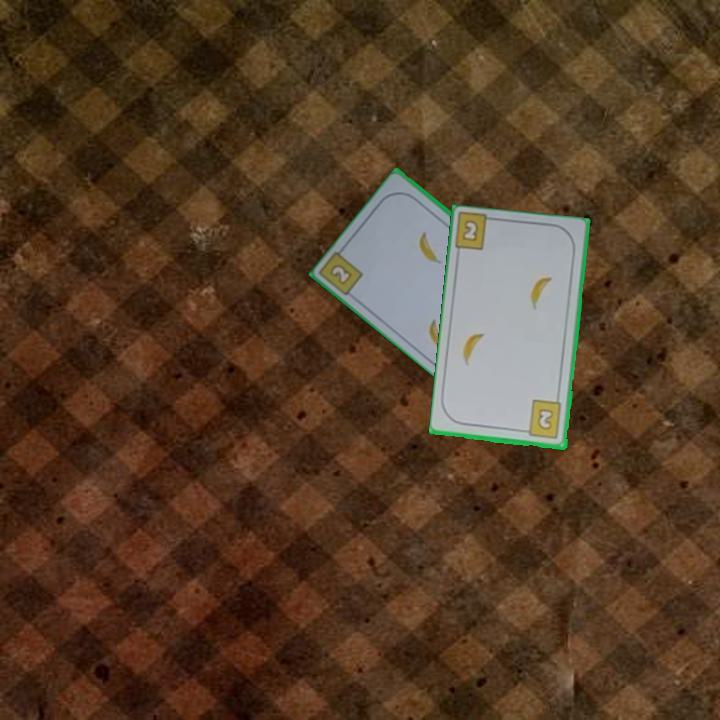2b: (519, 397, 564, 442), (326, 260, 355, 288), (459, 216, 481, 245)
